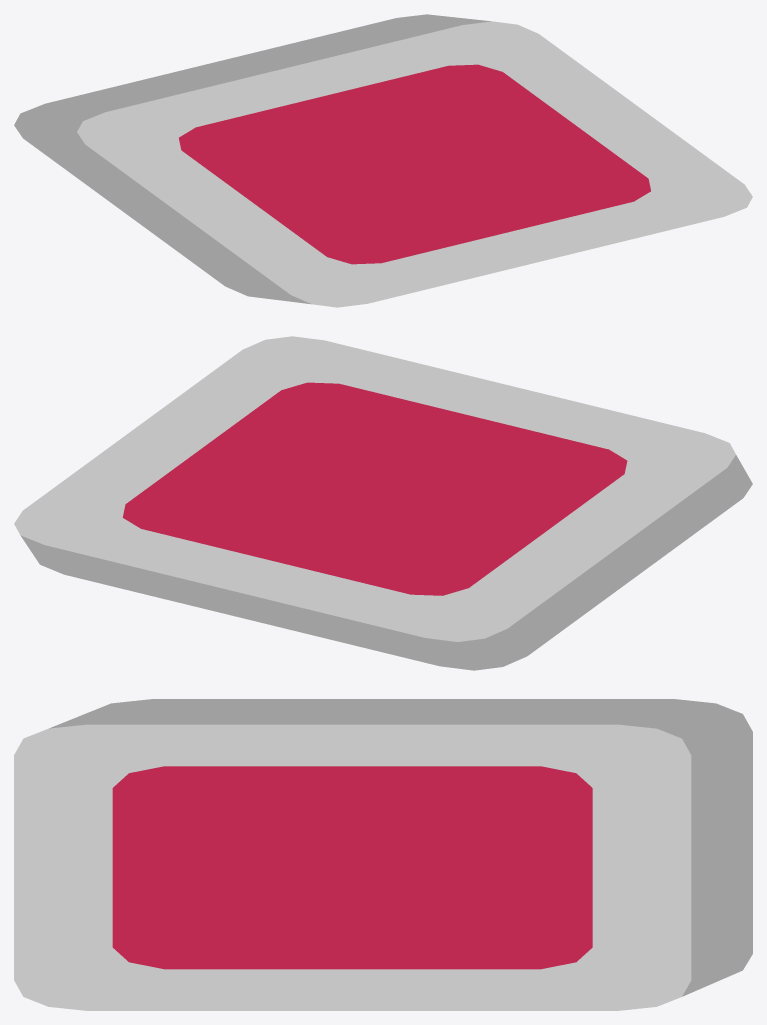
File: W_dpoint_stage_boss.fbx
The picture shows the model from 3 angles, top to bottom: view 1: azimuth 30°, elevation 25°; view 2: azimuth 150°, elevation 25°; view 3: azimuth 270°, elevation 25°; orthographic projection. The views are drawn at different scales.
Parts seen in each view (by area): view 1: W_dpoint_stage_boss; view 2: W_dpoint_stage_boss; view 3: W_dpoint_stage_boss.
Part boxes in pixels (x1=…): W_dpoint_stage_boss: x1=14, y1=14, x2=752, y2=307; W_dpoint_stage_boss: x1=14, y1=336, x2=752, y2=670; W_dpoint_stage_boss: x1=14, y1=699, x2=752, y2=1010.
Bounding box in the file's own units: 3.81 × 0 × 3.82.
